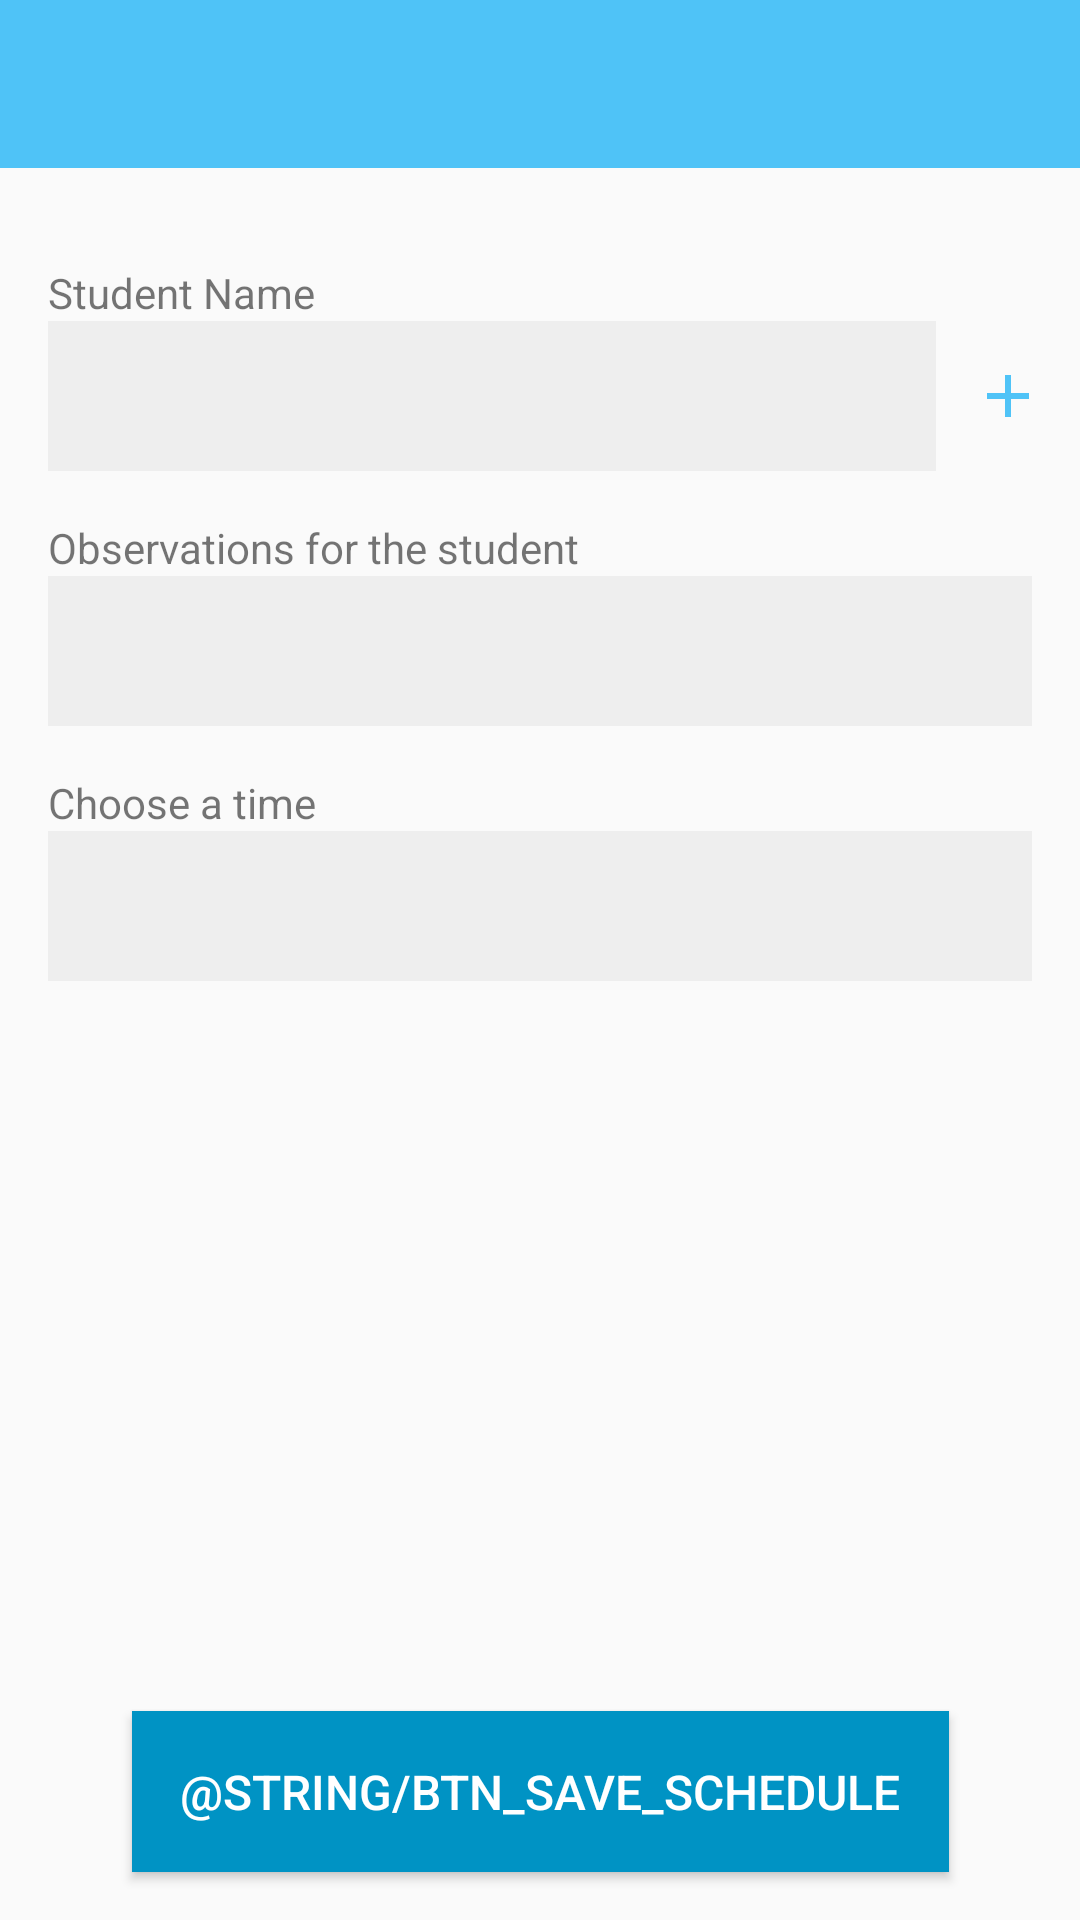

Named icons in this screenshot (1080×1920) and their bounding boxes, (x1, y1, x2, y2):
add: (987, 375, 1029, 417)
